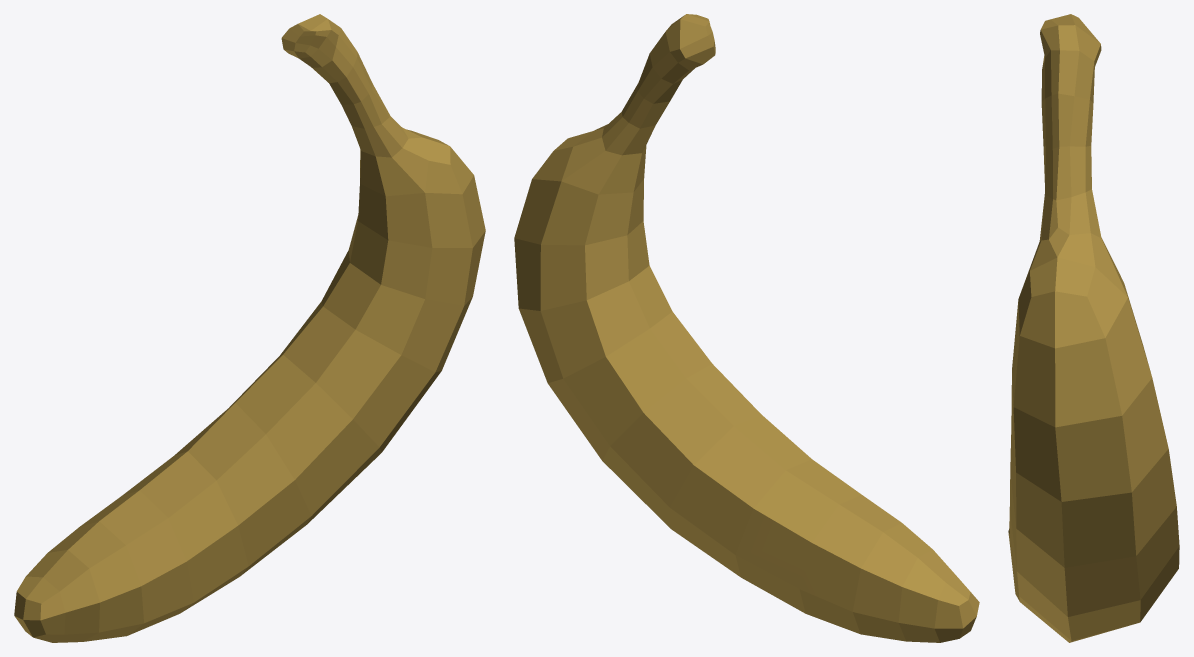
The model's file is ingredient_banana.glb.
3 renders of one model, left to right at view 1: azimuth 30°, elevation 25°; view 2: azimuth 150°, elevation 25°; view 3: azimuth 270°, elevation 25°, orthographic. The views are drawn at different scales.
Parts seen in each view (by area): view 1: Banana_Cube.038; view 2: Banana_Cube.038; view 3: Banana_Cube.038.
Boxes of the visible parts, <box> form: Banana_Cube.038: <box>14,14,485,642</box>; Banana_Cube.038: <box>514,14,979,642</box>; Banana_Cube.038: <box>1008,14,1179,642</box>.
Bounding box in the file's own units: 1.18 × 1.4 × 0.3095.
